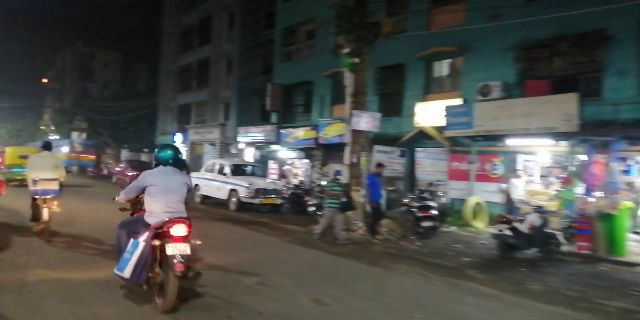Autorickshaw: (3, 143, 37, 187)
Car: (190, 154, 286, 219)
Cycle: (26, 135, 69, 243)
Motorbike: (118, 145, 201, 306)
